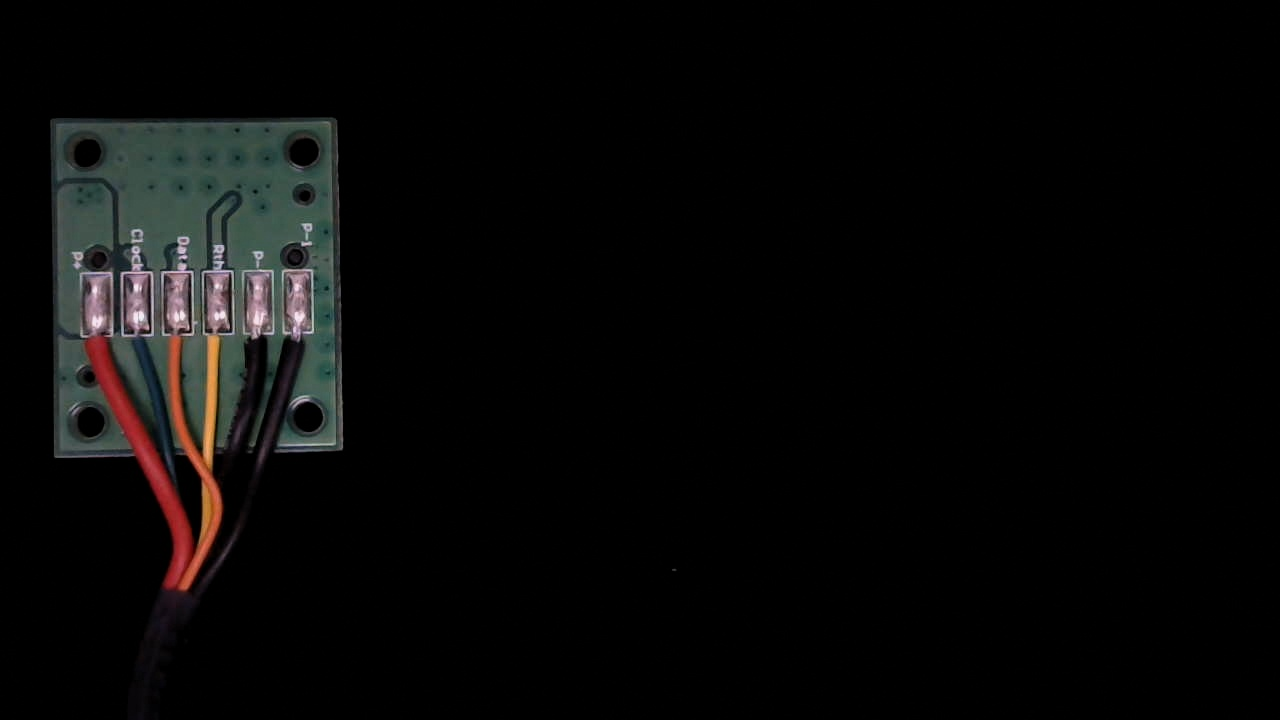Black: (241, 319, 272, 382)
Black1: (282, 319, 315, 386)
Green: (118, 317, 153, 387)
Orange: (160, 318, 192, 390)
Red: (80, 317, 115, 387)
Yellow: (200, 317, 235, 391)
